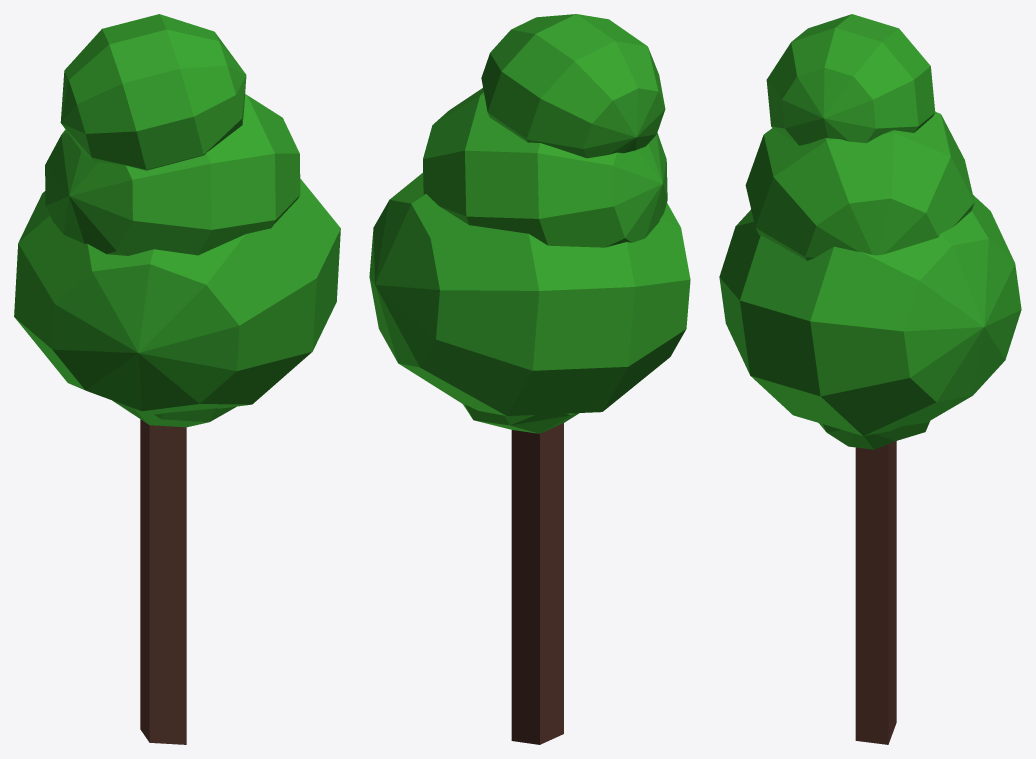
Rendered from Tree1.glb.
3 renders of one model, left to right at view 1: azimuth 30°, elevation 25°; view 2: azimuth 150°, elevation 25°; view 3: azimuth 270°, elevation 25°, orthographic. The views are drawn at different scales.
Parts seen in each view (by area): view 1: Tree; view 2: Tree; view 3: Tree.
Part boxes in pixels (x1,y1,x2,y2): Tree: (14,14,340,744); Tree: (369,14,690,744); Tree: (719,14,1021,744).
Size of the model in its own units: 0.2011 by 0.4904 by 0.1921.
